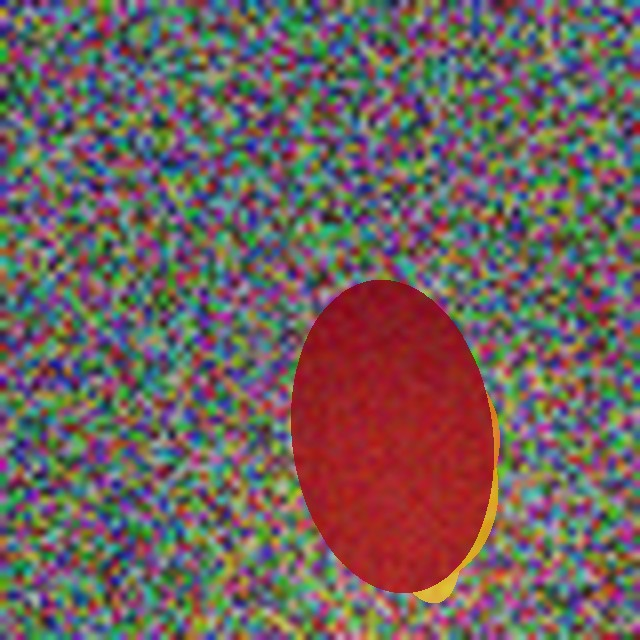fire: (297, 413, 511, 571)
